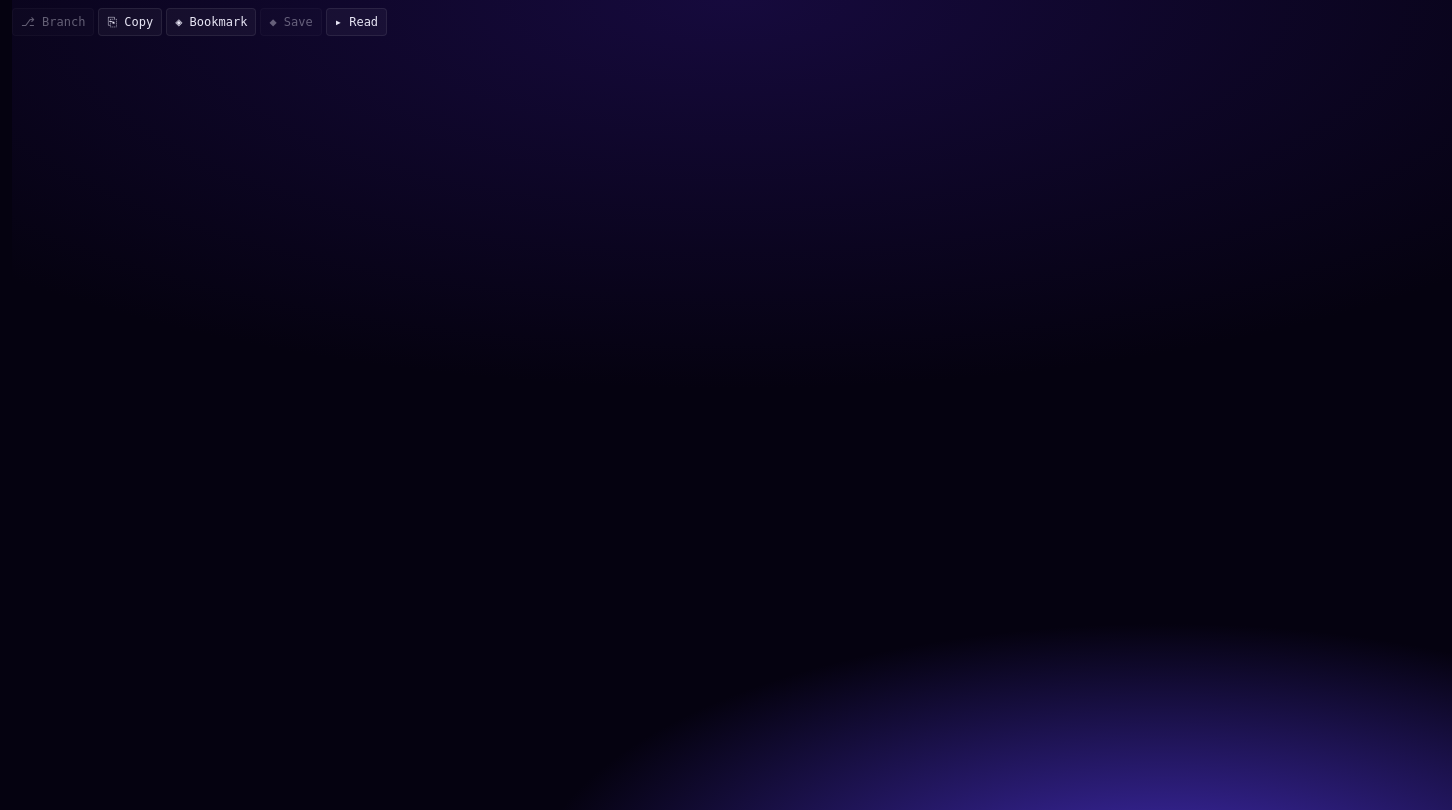
manual read button disabled reason (touch) › reveals the reason inline on tap when disabled (nothing)
Expected: the text "nothing to read" is not shown
Click the button "▸ Read": [356, 22] box x1=326 y1=8 x2=387 y2=36
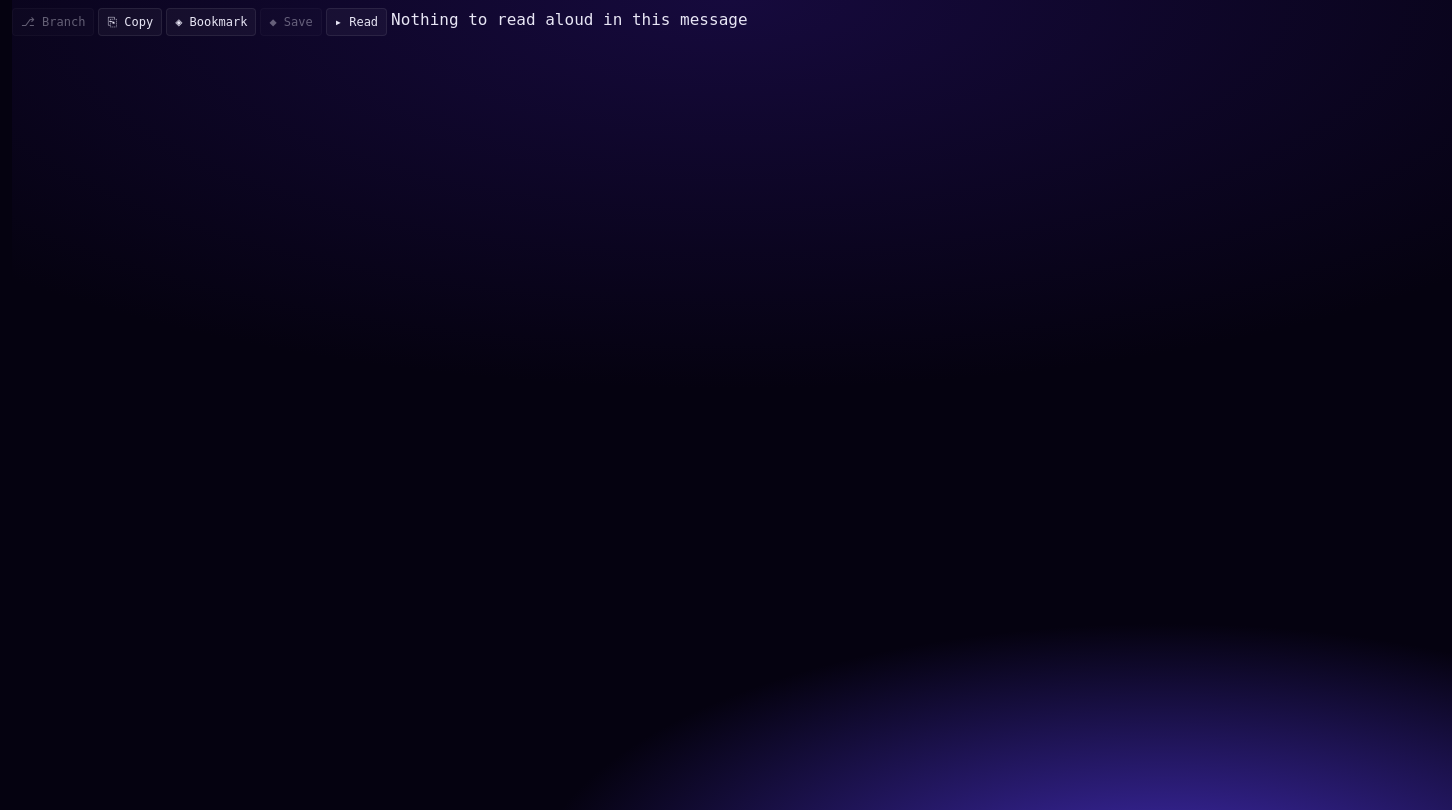
Now the text "Nothing to read aloud in this message" is shown, box x1=391 y1=8 x2=748 y2=36
